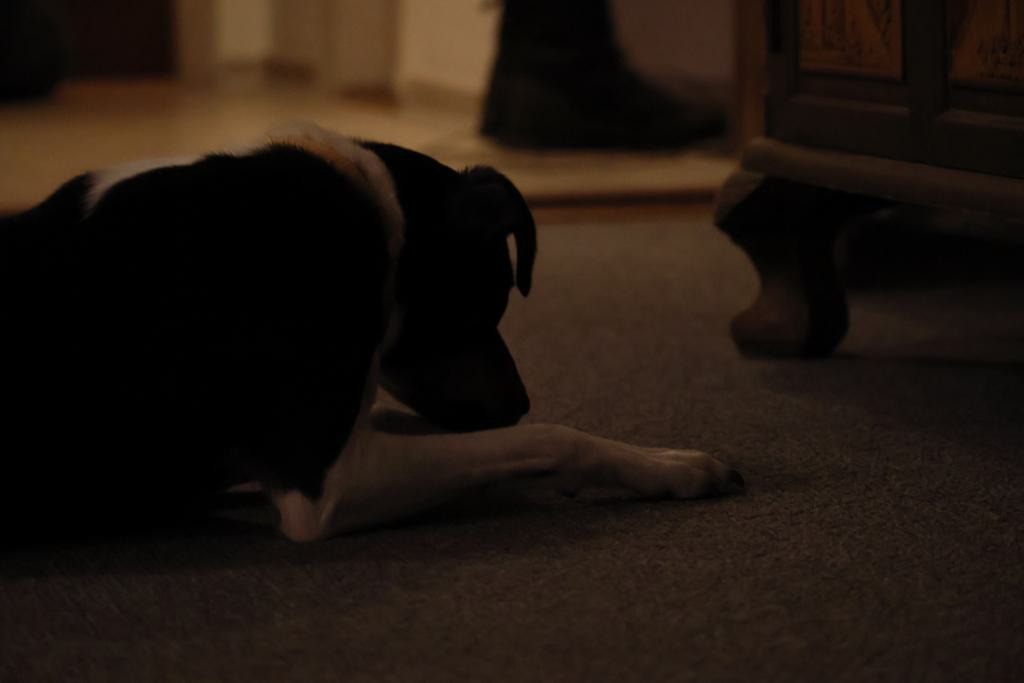Dog: (0, 102, 761, 580)
